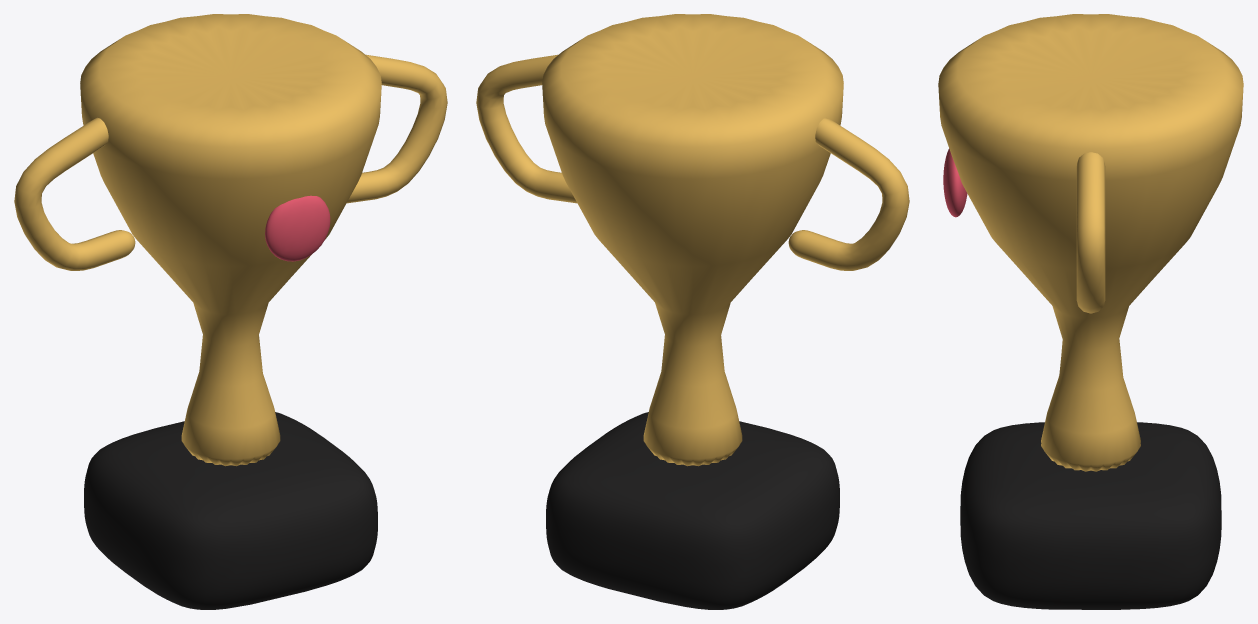
The model's file is deco_copa.glb.
The picture shows the model from 3 angles, left to right: view 1: azimuth 30°, elevation 25°; view 2: azimuth 150°, elevation 25°; view 3: azimuth 270°, elevation 25°; orthographic projection.
Visible parts, largest first — view 1: copa.001, base copa.001, oreja copa -1.001, oreja copa 1.001, estrella copa.001; view 2: copa.001, base copa.001, oreja copa -1.001, oreja copa 1.001; view 3: copa.001, base copa.001, oreja copa 1.001, estrella copa.001.
Part boxes in pixels (x1=…): copa.001: x1=80, y1=14, x2=381, y2=466; base copa.001: x1=84, y1=412, x2=377, y2=609; oreja copa -1.001: x1=14, y1=117, x2=135, y2=270; oreja copa 1.001: x1=347, y1=54, x2=447, y2=203; estrella copa.001: x1=265, y1=195, x2=330, y2=261; copa.001: x1=542, y1=14, x2=843, y2=466; base copa.001: x1=546, y1=412, x2=839, y2=609; oreja copa -1.001: x1=788, y1=117, x2=909, y2=270; oreja copa 1.001: x1=476, y1=54, x2=576, y2=203; copa.001: x1=938, y1=14, x2=1243, y2=471; base copa.001: x1=960, y1=422, x2=1221, y2=609; oreja copa 1.001: x1=1076, y1=152, x2=1105, y2=313; estrella copa.001: x1=943, y1=148, x2=967, y2=217.
Size of the model in its own units: 0.2302 by 0.256 by 0.1401.
